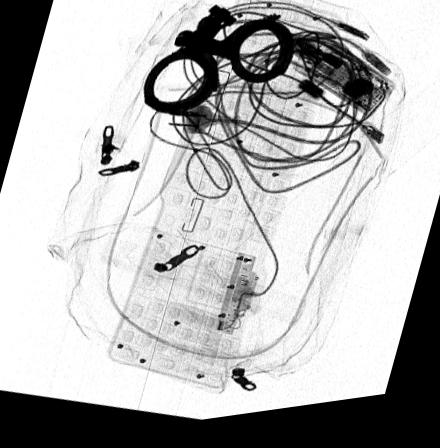HandCuffs: (144, 8, 295, 118)
